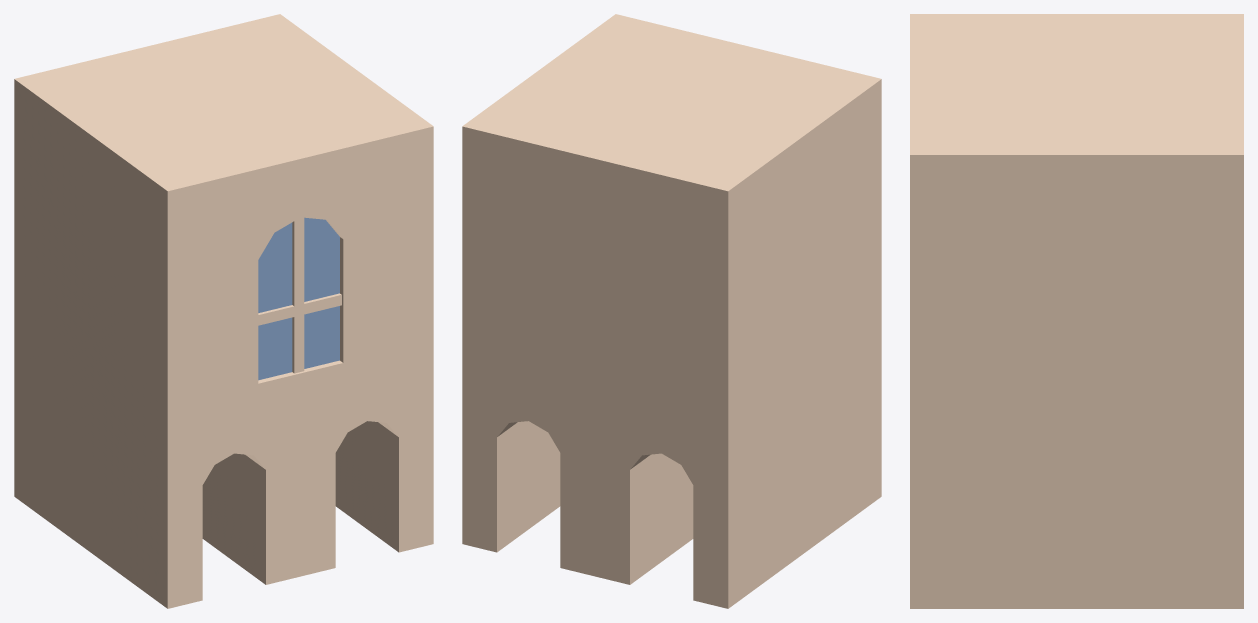
File: Abstract_Castle_Block_Single+Half_Window+ArchSmall_Cream_01.fbx
3 views of the same model, side by side, from view 1: azimuth 30°, elevation 25°; view 2: azimuth 150°, elevation 25°; view 3: azimuth 270°, elevation 25° (orthographic). The views are drawn at different scales.
Visible parts, largest first — view 1: Model; view 2: Model; view 3: Model.
Part boxes in pixels (bbox=[...]): Model: bbox=[14, 14, 433, 608]; Model: bbox=[462, 14, 881, 608]; Model: bbox=[910, 14, 1243, 608].
Size of the model in its own units: 1000 by 1500 by 1000.
